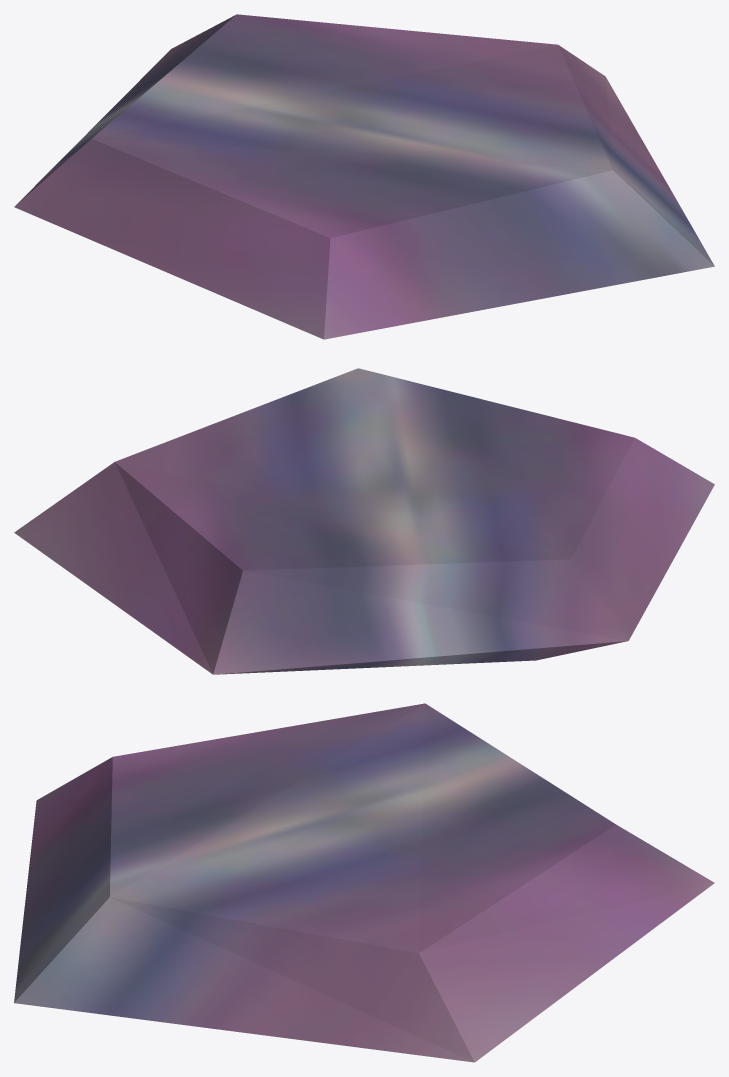
Rendered from PlateTree_1_Plate_8.gltf.
The picture shows the model from 3 angles, top to bottom: view 1: azimuth 30°, elevation 25°; view 2: azimuth 150°, elevation 25°; view 3: azimuth 270°, elevation 25°; orthographic projection. The views are drawn at different scales.
Visible parts, largest first — view 1: PlateTree_1_Plate_8; view 2: PlateTree_1_Plate_8; view 3: PlateTree_1_Plate_8.
Part boxes in pixels (x1=…): PlateTree_1_Plate_8: x1=14, y1=14, x2=714, y2=339; PlateTree_1_Plate_8: x1=14, y1=368, x2=714, y2=674; PlateTree_1_Plate_8: x1=14, y1=703, x2=714, y2=1062.
Size of the model in its own units: 1.2 by 0.2417 by 1.17.
Materials: 1 (1 with a texture image).
